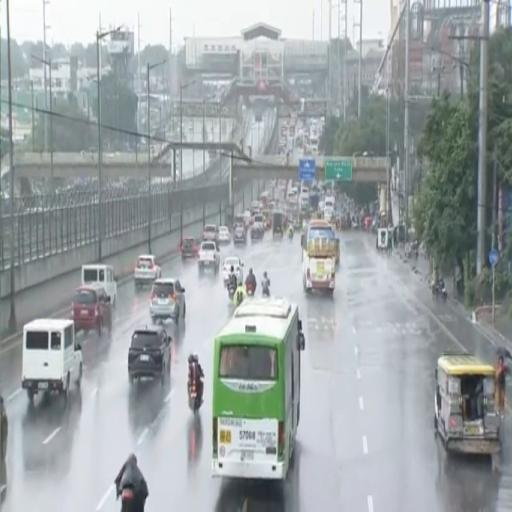bus: (212, 298, 305, 479), (260, 191, 270, 209)
car: (22, 319, 82, 402), (128, 326, 171, 383), (71, 283, 112, 335), (150, 278, 185, 323), (134, 254, 161, 286), (223, 256, 243, 284), (181, 237, 199, 261), (203, 224, 218, 242), (233, 227, 247, 245), (251, 227, 264, 242), (253, 214, 265, 230), (219, 227, 230, 244), (243, 211, 251, 228)
motorcycle: (189, 382, 202, 413), (121, 487, 134, 511), (432, 283, 447, 301), (228, 283, 236, 299), (246, 283, 254, 296), (262, 285, 269, 296), (289, 231, 293, 241)
truck: (301, 220, 338, 294), (198, 242, 220, 274)
